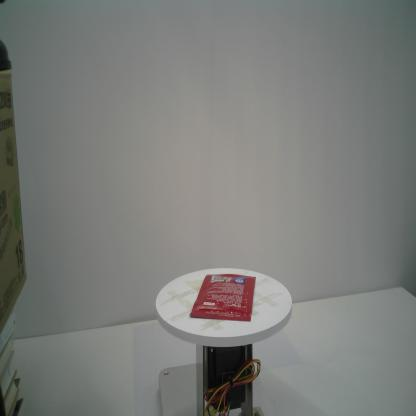Seasoner: (188, 273, 257, 323)
